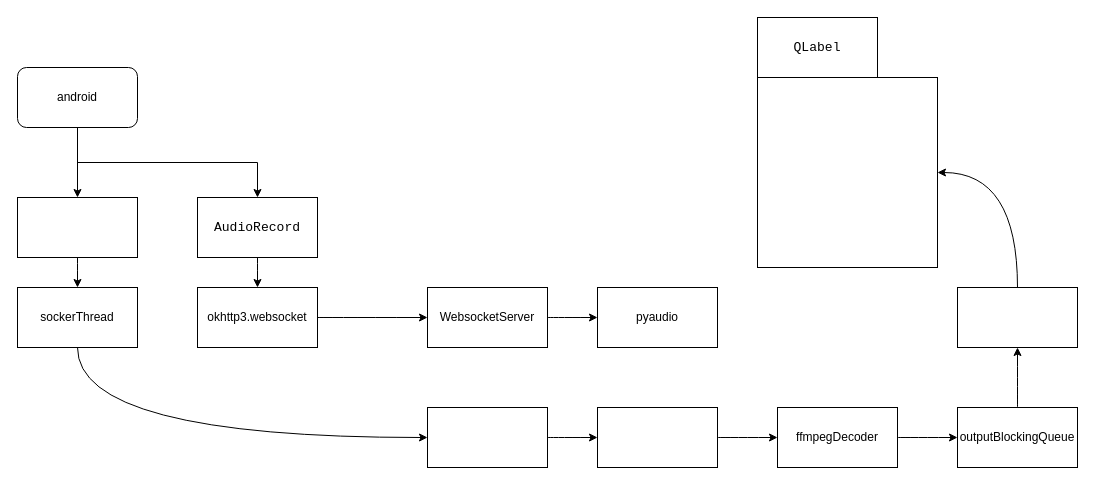
Image size: 1095x485. Some labels were removed from this diagram. Each missing label, with the centre of its shape:
"inputQueue" goes at pixel 657 437.
"MediaCodec" goes at pixel 77 227.
"qtSignal" goes at pixel 1017 317.
"socketServer" goes at pixel 487 437.
